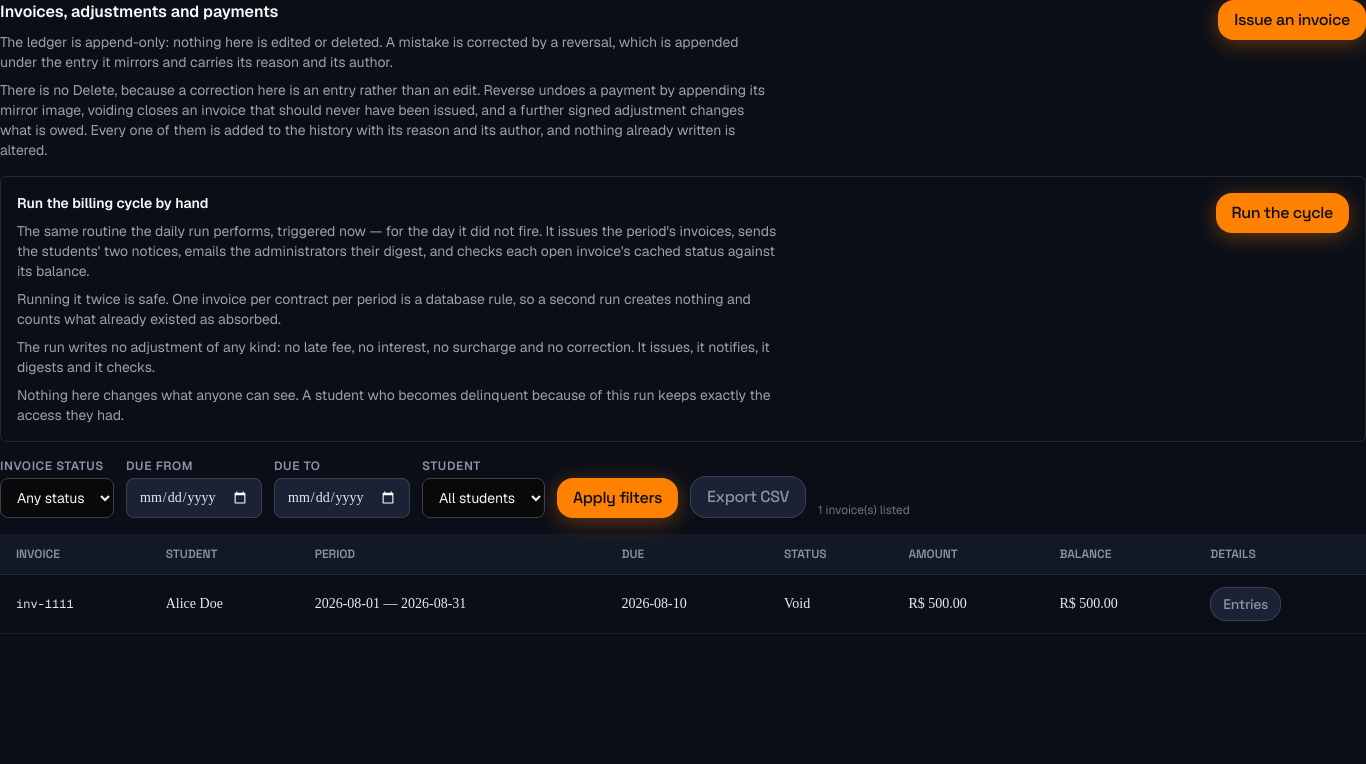
Test case: LedgerTab › offers no write action on a void invoice
Click the button "Entries". click: [1246, 604]
box: [1210, 587, 1281, 621]
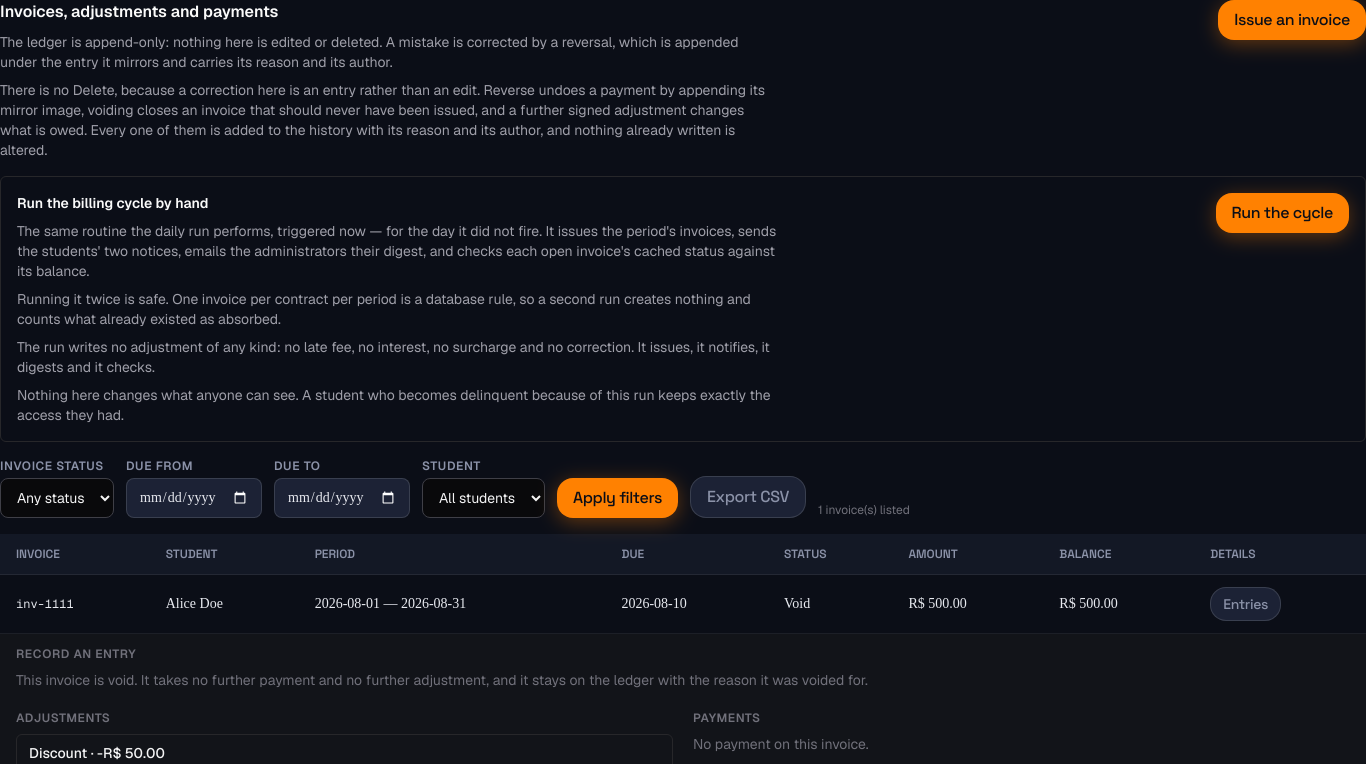
expect the heading "Payments" is shown: met, box [693, 710, 761, 726]
expect the text "This invoice is void. It takes no further payment and no further adjustment, and it stays on the ledger with the reason " is shown: met, box [16, 671, 868, 689]
